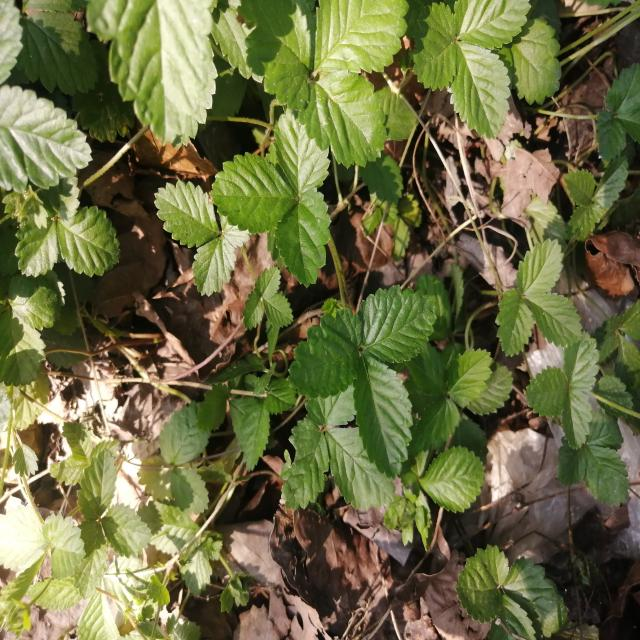Mock_strawberry: (135, 129, 340, 273), (286, 289, 448, 467), (231, 2, 406, 166), (534, 336, 628, 507)
